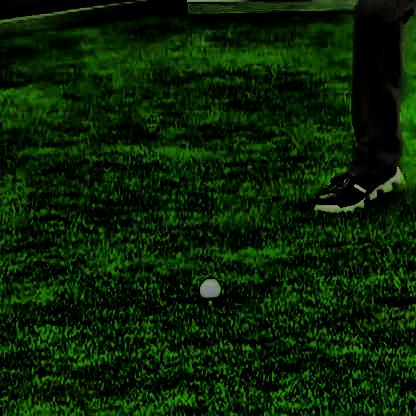golfball: (195, 274, 219, 298)
